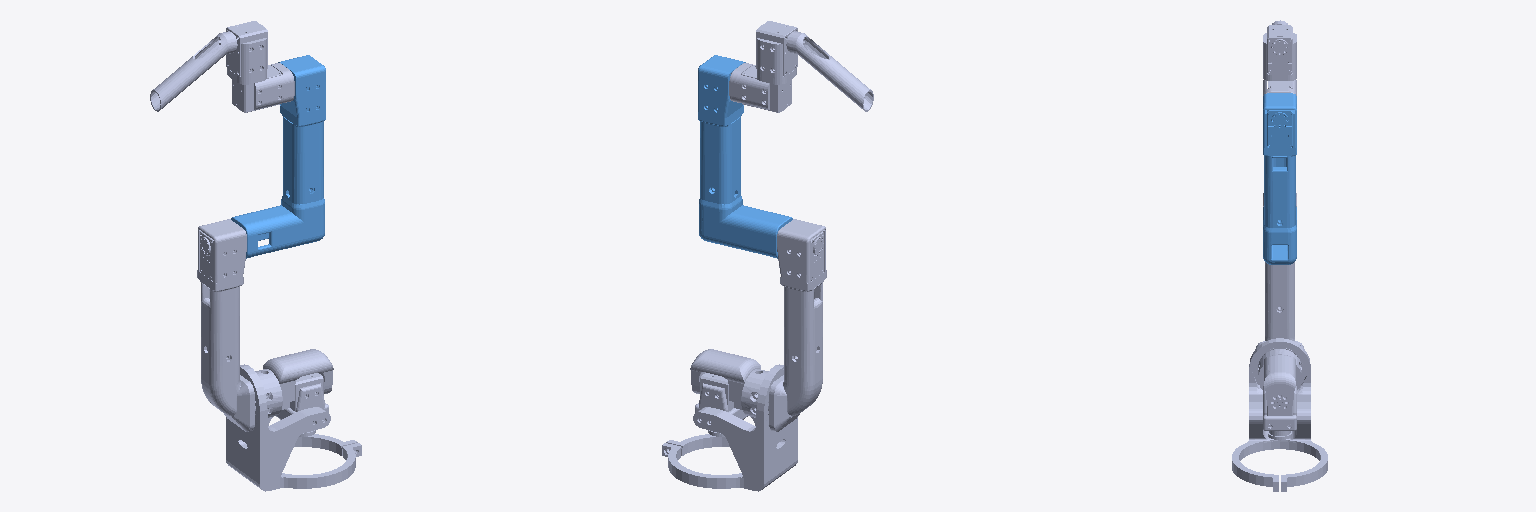
robot.urdf — ####UR3e_Master_Device:
<?xml version="1.0" encoding="utf-8"?>
<!-- This URDF was automatically created by SolidWorks to URDF Exporter! Originally created by Stephen Brawner (brawner@gmail.com) 
     Commit Version: 1.6.0-4-g7f85cfe  Build Version: 1.6.7995.38578
     For more information, please see http://wiki.ros.org/sw_urdf_exporter -->
<robot
  name="####UR3e_Master_Device">
  <link
    name="base_link">
    <inertial>
      <origin
        xyz="0.016232 0.0045013 -0.059548"
        rpy="0 0 0" />
      <mass
        value="1.1622" />
      <inertia
        ixx="0.0021734"
        ixy="0.00060703"
        ixz="8.5861E-05"
        iyy="0.003053"
        iyz="3.1542E-05"
        izz="0.0049636" />
    </inertial>
    <visual>
      <origin
        xyz="0 0 0"
        rpy="0 0 0" />
      <geometry>
        <mesh
          filename="package://####UR3e_Master_Device/meshes/base_link.STL" />
      </geometry>
      <material
        name="">
        <color
          rgba="0.69804 0.69804 0.69804 1" />
      </material>
    </visual>
    <collision>
      <origin
        xyz="0 0 0"
        rpy="0 0 0" />
      <geometry>
        <mesh
          filename="package://####UR3e_Master_Device/meshes/base_link.STL" />
      </geometry>
    </collision>
  </link>
  <link
    name="L1">
    <inertial>
      <origin
        xyz="-0.028824 -1.682E-06 0.008809"
        rpy="0 0 0" />
      <mass
        value="0.24879" />
      <inertia
        ixx="0.00025445"
        ixy="5.8158E-08"
        ixz="1.902E-05"
        iyy="0.00029997"
        iyz="-1.9743E-08"
        izz="0.00030924" />
    </inertial>
    <visual>
      <origin
        xyz="0 0 0"
        rpy="0 0 0" />
      <geometry>
        <mesh
          filename="package://####UR3e_Master_Device/meshes/L1.STL" />
      </geometry>
      <material
        name="">
        <color
          rgba="0.79216 0.81961 0.93333 1" />
      </material>
    </visual>
    <collision>
      <origin
        xyz="0 0 0"
        rpy="0 0 0" />
      <geometry>
        <mesh
          filename="package://####UR3e_Master_Device/meshes/L1.STL" />
      </geometry>
    </collision>
  </link>
  <joint
    name="J1"
    type="revolute">
    <origin
      xyz="0 0 0"
      rpy="0 0 0" />
    <parent
      link="base_link" />
    <child
      link="L1" />
    <axis
      xyz="0 0 1" />
    <limit
      lower="-3.14"
      upper="3.14"
      effort="50"
      velocity="10" />
  </joint>
  <link
    name="L2">
    <inertial>
      <origin
        xyz="-6.66E-06 -0.062465 0.095606"
        rpy="0 0 0" />
      <mass
        value="0.35913" />
      <inertia
        ixx="0.00031008"
        ixy="-1.0966E-11"
        ixz="-8.6591E-08"
        iyy="0.00015934"
        iyz="2.9881E-05"
        izz="0.0002495" />
    </inertial>
    <visual>
      <origin
        xyz="0 0 0"
        rpy="0 0 0" />
      <geometry>
        <mesh
          filename="package://####UR3e_Master_Device/meshes/L2.STL" />
      </geometry>
      <material
        name="">
        <color
          rgba="0.79216 0.81961 0.93333 1" />
      </material>
    </visual>
    <collision>
      <origin
        xyz="0 0 0"
        rpy="0 0 0" />
      <geometry>
        <mesh
          filename="package://####UR3e_Master_Device/meshes/L2.STL" />
      </geometry>
    </collision>
  </link>
  <joint
    name="J2"
    type="revolute">
    <origin
      xyz="0.019 0 0.05305"
      rpy="-1.5708 0 1.5708" />
    <parent
      link="L1" />
    <child
      link="L2" />
    <axis
      xyz="0 0 -1" />
    <limit
      lower="-3.14"
      upper="3.14"
      effort="50"
      velocity="10" />
  </joint>
  <link
    name="L3">
    <inertial>
      <origin
        xyz="0.073907 -7.305E-05 0.072073"
        rpy="0 0 0" />
      <mass
        value="0.25231" />
      <inertia
        ixx="0.00012274"
        ixy="-1.0941E-07"
        ixz="-1.006E-05"
        iyy="0.00024607"
        iyz="-7.374E-07"
        izz="0.00018887" />
    </inertial>
    <visual>
      <origin
        xyz="0 0 0"
        rpy="0 0 0" />
      <geometry>
        <mesh
          filename="package://####UR3e_Master_Device/meshes/L3.STL" />
      </geometry>
      <material
        name="">
        <color
          rgba="0.43529 0.71765 1 1" />
      </material>
    </visual>
    <collision>
      <origin
        xyz="0 0 0"
        rpy="0 0 0" />
      <geometry>
        <mesh
          filename="package://####UR3e_Master_Device/meshes/L3.STL" />
      </geometry>
    </collision>
  </link>
  <joint
    name="J3"
    type="revolute">
    <origin
      xyz="0 -0.1848 0.0979"
      rpy="3.1416 0 -1.5708" />
    <parent
      link="L2" />
    <child
      link="L3" />
    <axis
      xyz="0 0 1" />
    <limit
      lower="-3.14"
      upper="3.14"
      effort="50"
      velocity="10" />
  </joint>
  <link
    name="L4">
    <inertial>
      <origin
        xyz="-0.00026957 -7.0194E-05 0.030825"
        rpy="0 0 0" />
      <mass
        value="0.063937" />
      <inertia
        ixx="1.777E-05"
        ixy="2.1323E-13"
        ixz="-1.6017E-09"
        iyy="1.7182E-05"
        iyz="-5.244E-15"
        izz="1.2431E-05" />
    </inertial>
    <visual>
      <origin
        xyz="0 0 0"
        rpy="0 0 0" />
      <geometry>
        <mesh
          filename="package://####UR3e_Master_Device/meshes/L4.STL" />
      </geometry>
      <material
        name="">
        <color
          rgba="0.79216 0.81961 0.93333 1" />
      </material>
    </visual>
    <collision>
      <origin
        xyz="0 0 0"
        rpy="0 0 0" />
      <geometry>
        <mesh
          filename="package://####UR3e_Master_Device/meshes/L4.STL" />
      </geometry>
    </collision>
  </link>
  <joint
    name="J4"
    type="revolute">
    <origin
      xyz="0.16493 0 0.06075"
      rpy="-3.1416 0 -3.1416" />
    <parent
      link="L3" />
    <child
      link="L4" />
    <axis
      xyz="0 0 1" />
    <limit
      lower="-3.14"
      upper="3.14"
      effort="50"
      velocity="10" />
  </joint>
  <link
    name="L5">
    <inertial>
      <origin
        xyz="-0.00027584 -7.1825E-05 0.0254"
        rpy="0 0 0" />
      <mass
        value="0.062485" />
      <inertia
        ixx="1.755E-05"
        ixy="1.6906E-12"
        ixz="-1.6017E-09"
        iyy="1.6861E-05"
        iyz="-5.2442E-15"
        izz="1.2024E-05" />
    </inertial>
    <visual>
      <origin
        xyz="0 0 0"
        rpy="0 0 0" />
      <geometry>
        <mesh
          filename="package://####UR3e_Master_Device/meshes/L5.STL" />
      </geometry>
      <material
        name="">
        <color
          rgba="0.79216 0.81961 0.93333 1" />
      </material>
    </visual>
    <collision>
      <origin
        xyz="0 0 0"
        rpy="0 0 0" />
      <geometry>
        <mesh
          filename="package://####UR3e_Master_Device/meshes/L5.STL" />
      </geometry>
    </collision>
  </link>
  <joint
    name="J5"
    type="revolute">
    <origin
      xyz="-0.019 -0.0001 0.048"
      rpy="3.1416 1.5708 0" />
    <parent
      link="L4" />
    <child
      link="L5" />
    <axis
      xyz="0 0 1" />
    <limit
      lower="-3.14"
      upper="3.14"
      effort="50"
      velocity="10" />
  </joint>
  <link
    name="L6">
    <inertial>
      <origin
        xyz="0.017873 1.1057E-06 0.03818"
        rpy="0 0 0" />
      <mass
        value="0.010244" />
      <inertia
        ixx="9.198E-06"
        ixy="-1.0858E-10"
        ixz="-4.5809E-06"
        iyy="1.1566E-05"
        iyz="-1.072E-10"
        izz="3.4797E-06" />
    </inertial>
    <visual>
      <origin
        xyz="0 0 0"
        rpy="0 0 0" />
      <geometry>
        <mesh
          filename="package://####UR3e_Master_Device/meshes/L6.STL" />
      </geometry>
      <material
        name="">
        <color
          rgba="0.79216 0.81961 0.93333 1" />
      </material>
    </visual>
    <collision>
      <origin
        xyz="0 0 0"
        rpy="0 0 0" />
      <geometry>
        <mesh
          filename="package://####UR3e_Master_Device/meshes/L6.STL" />
      </geometry>
    </collision>
  </link>
  <joint
    name="J6"
    type="revolute">
    <origin
      xyz="-0.019 -0.0001 0.04145"
      rpy="3.1416 1.5708 0" />
    <parent
      link="L5" />
    <child
      link="L6" />
    <axis
      xyz="0 0 1" />
    <limit
      lower="-3.14"
      upper="3.14"
      effort="50"
      velocity="10" />
  </joint>
</robot>

--- Facts derived from the render (not from the file) ---
3 views of the same robot in one strip: view 1: azimuth 30°, elevation 25°; view 2: azimuth 150°, elevation 25°; view 3: azimuth 270°, elevation 25° (orthographic).
Robot: ####UR3e_Master_Device — 7 links, 6 joints (6 revolute); root link base_link; default pose: every joint at zero.
Links seen in each view (by area): view 1: L2, L3, L1, L5, L6, L4; view 2: L2, L3, L1, L5, L6, L4; view 3: L1, L3, L2, L5.
Link boxes in pixels (x1,y1,x2,y2): L2: (197,219,333,431); L3: (231,55,325,258); L1: (226,364,361,491); L5: (226,21,267,84); L6: (150,31,236,111); L4: (232,63,294,112); L2: (690,219,826,431); L3: (698,55,792,258); L1: (662,364,797,491); L5: (756,21,797,84); L6: (787,31,873,111); L4: (729,63,791,112); L1: (1232,338,1327,491); L3: (1263,93,1296,264); L2: (1256,193,1303,413); L5: (1263,25,1296,80).
Bounding box of the posed robot: 0.2412 × 0.1098 × 0.5147 m (x, y, z).
Meshes: 7 distinct files referenced, 6 mesh visuals loaded (6 binary STL); not drawn: 1 (reference not matched to a file when rendering).
